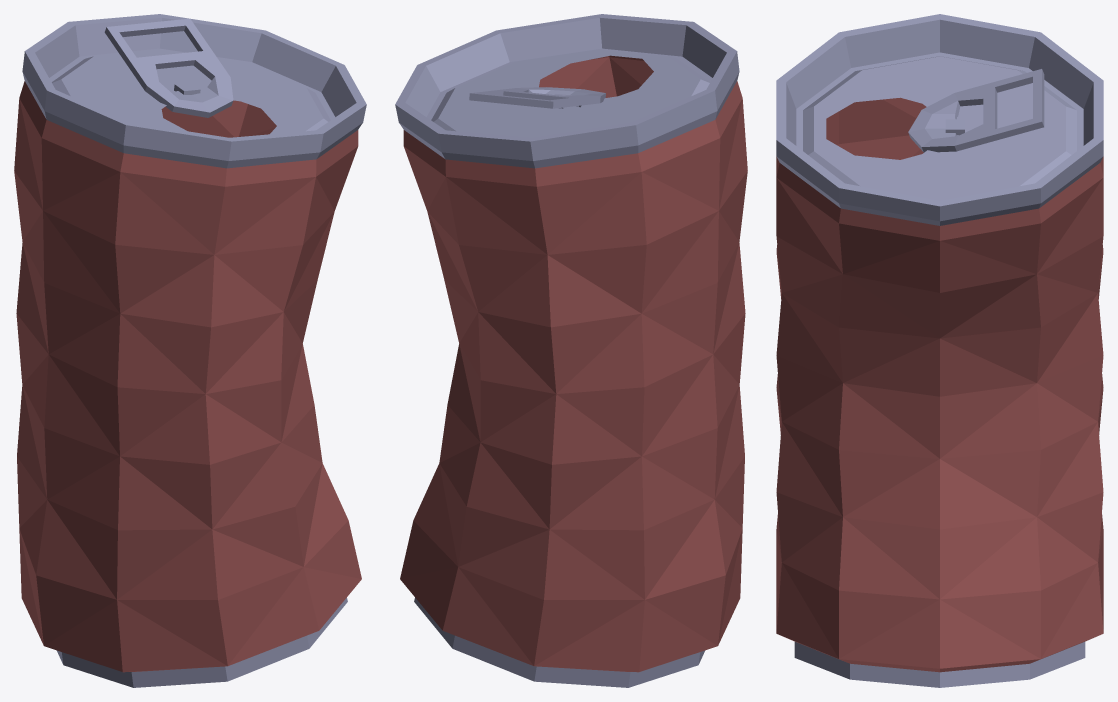
File: MD_akican_251208.fbx
The picture shows the model from 3 angles, left to right: view 1: azimuth 30°, elevation 25°; view 2: azimuth 150°, elevation 25°; view 3: azimuth 270°, elevation 25°; orthographic projection.
Visible parts, largest first — view 1: akican_ketugou; view 2: akican_ketugou; view 3: akican_ketugou.
Part boxes in pixels (<box>): akican_ketugou: <box>14,14,366,687</box>; akican_ketugou: <box>395,14,747,687</box>; akican_ketugou: <box>776,14,1103,687</box>.
Bounding box in the file's own units: 57.35 × 103 × 52.65.
